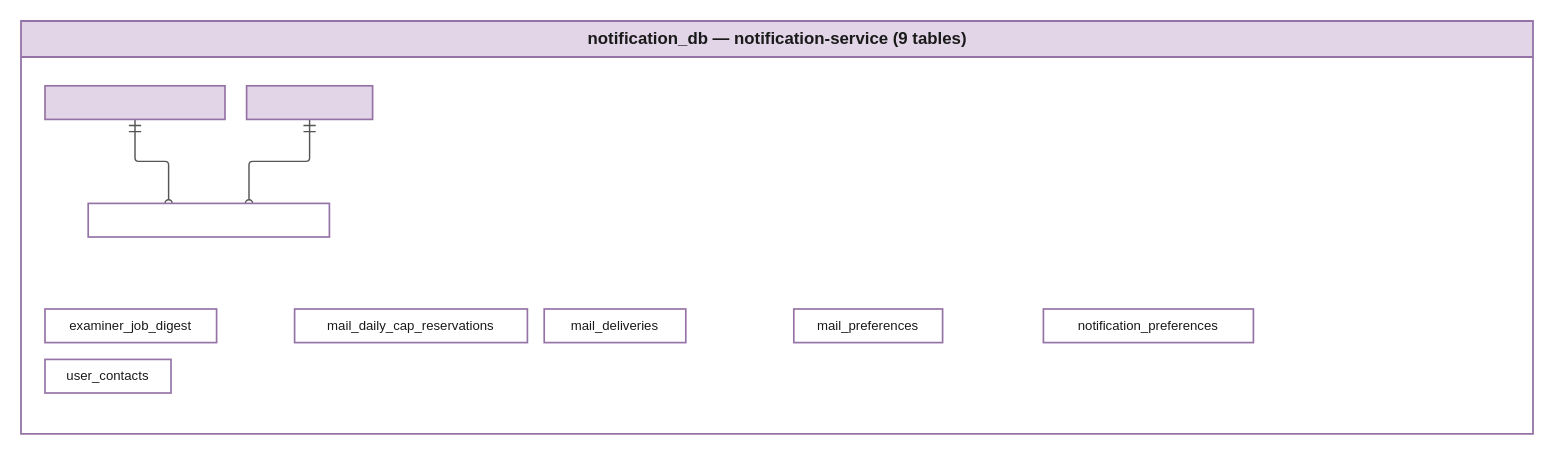
This 1555x456 diagram has some shape labels left out. The shapes that lost their labels are listed below. From the top down, each one's centre as x and y in pixels, then its label:
(134,102): notification_devices
(309,102): notifications
(208,219): notification_push_deliveries
